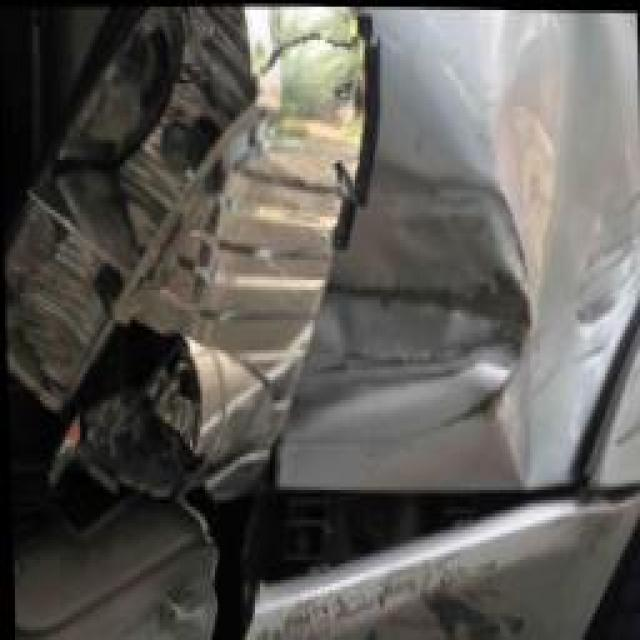Bumper: (30, 487, 640, 640)
Fender: (280, 3, 640, 496)
Light: (0, 0, 341, 492)
